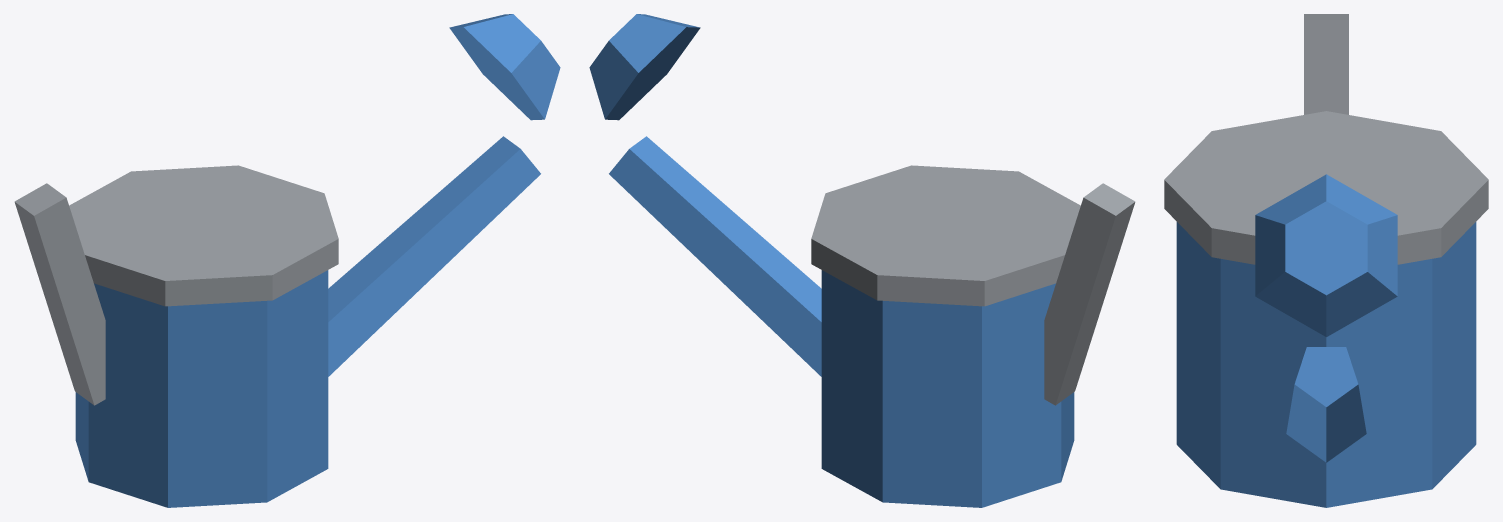
The model's file is Watering_Can.fbx.
3 renders of one model, left to right at view 1: azimuth 30°, elevation 25°; view 2: azimuth 150°, elevation 25°; view 3: azimuth 270°, elevation 25°, orthographic. The views are drawn at different scales.
Visible parts, largest first — view 1: Watering_Can; view 2: Watering_Can; view 3: Watering_Can.
Boxes of the visible parts, x1,y1,x2,y2 form: Watering_Can: (14,14,560,507); Watering_Can: (589,14,1135,507); Watering_Can: (1164,14,1488,507).
Size of the model in its own units: 0.805 by 0.5311 by 0.374.
